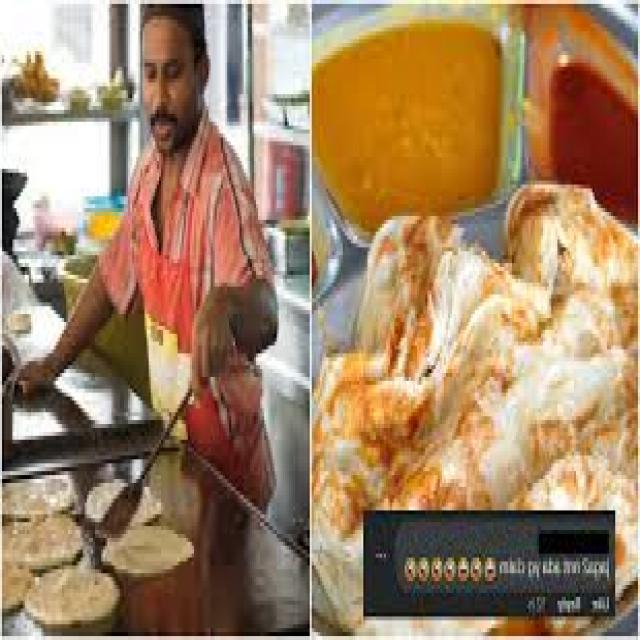Paratha: (316, 174, 640, 615)
